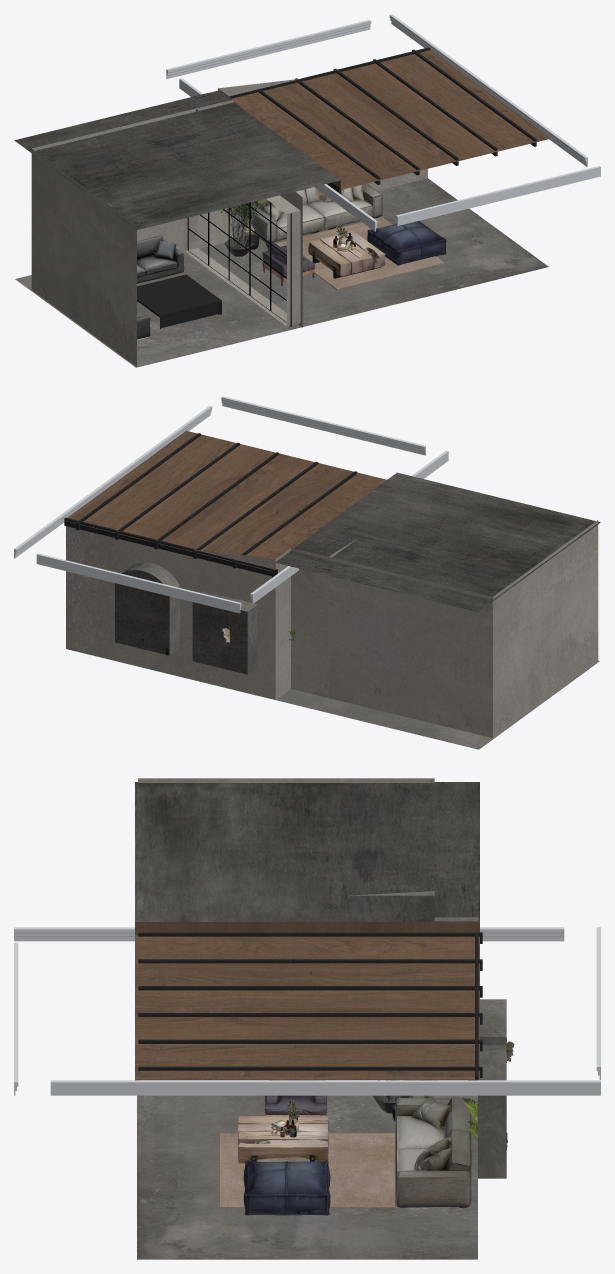
Rendered from Room.glb.
3 views of the same model, one above another, from view 1: azimuth 30°, elevation 25°; view 2: azimuth 150°, elevation 25°; view 3: azimuth 270°, elevation 25° (orthographic). The views are drawn at different scales.
Visible parts, largest first — view 1: Plane.001, Plane, node_0_Material.006_0, Cube.001, Cube.002, Plane.002, node_0.001_Material.007_0, node_0.002_Material.008_0, node_0.005_Material.012_0, object 89, node_0.003_Material.010_0, Cube; view 2: Plane, Plane.001, Cube.001, Cube; view 3: Plane.001, Plane, Cube.001, node_0_Material.006_0, Plane.002, node_0.001_Material.007_0, node_0.002_Material.008_0, node_0.003_Material.010_0.
Boxes of the visible parts, x1,y1,x2,y2 form: Plane.001: [14, 50, 550, 229]; Plane: [15, 78, 548, 367]; node_0_Material.006_0: [241, 183, 382, 242]; Cube.001: [258, 49, 536, 194]; Cube.002: [137, 274, 221, 329]; Plane.002: [276, 217, 444, 289]; node_0.001_Material.007_0: [367, 221, 446, 265]; node_0.002_Material.008_0: [308, 231, 385, 278]; node_0.005_Material.012_0: [137, 235, 184, 283]; object 89: [187, 202, 291, 326]; node_0.003_Material.010_0: [262, 239, 314, 285]; Cube: [229, 47, 430, 98]; Plane: [66, 520, 599, 749]; Plane.001: [64, 431, 600, 611]; Cube.001: [76, 433, 357, 577]; Cube: [64, 517, 277, 575]; Plane.001: [135, 782, 479, 1079]; Plane: [135, 778, 506, 1259]; Cube.001: [138, 932, 482, 1077]; node_0_Material.006_0: [395, 1095, 471, 1207]; Plane.002: [220, 1133, 394, 1208]; node_0.001_Material.007_0: [243, 1160, 330, 1215]; node_0.002_Material.008_0: [238, 1116, 328, 1163]; node_0.003_Material.010_0: [264, 1080, 326, 1116].
Bounding box in the file's own units: 9.32 × 3.07 × 8.
21 materials, 18 textured.
